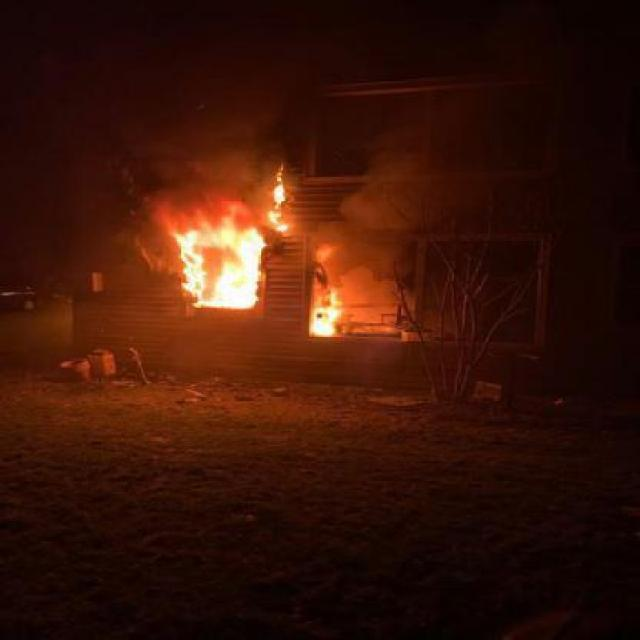Fire: (179, 222, 259, 312), (310, 286, 344, 336), (270, 161, 288, 234)
